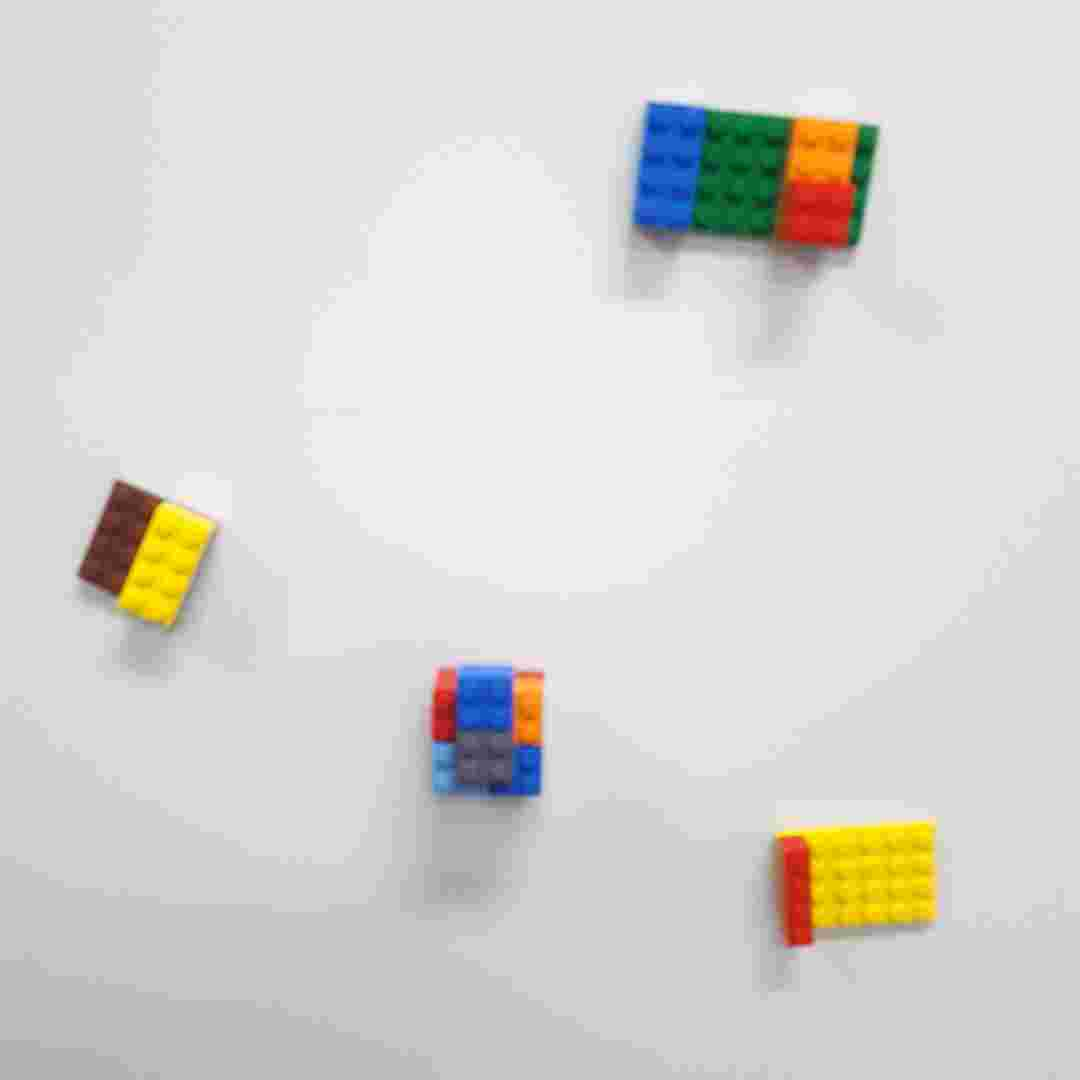LEGO: (628, 97, 883, 257), (775, 812, 945, 953), (72, 477, 220, 630), (425, 662, 555, 802)
